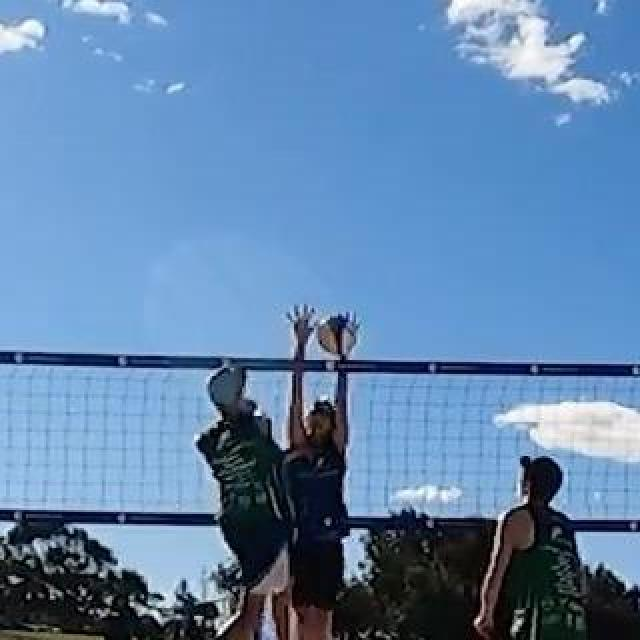volleyball: (317, 312, 359, 356)
